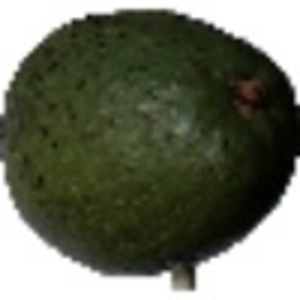abacate: (3, 6, 296, 275)
